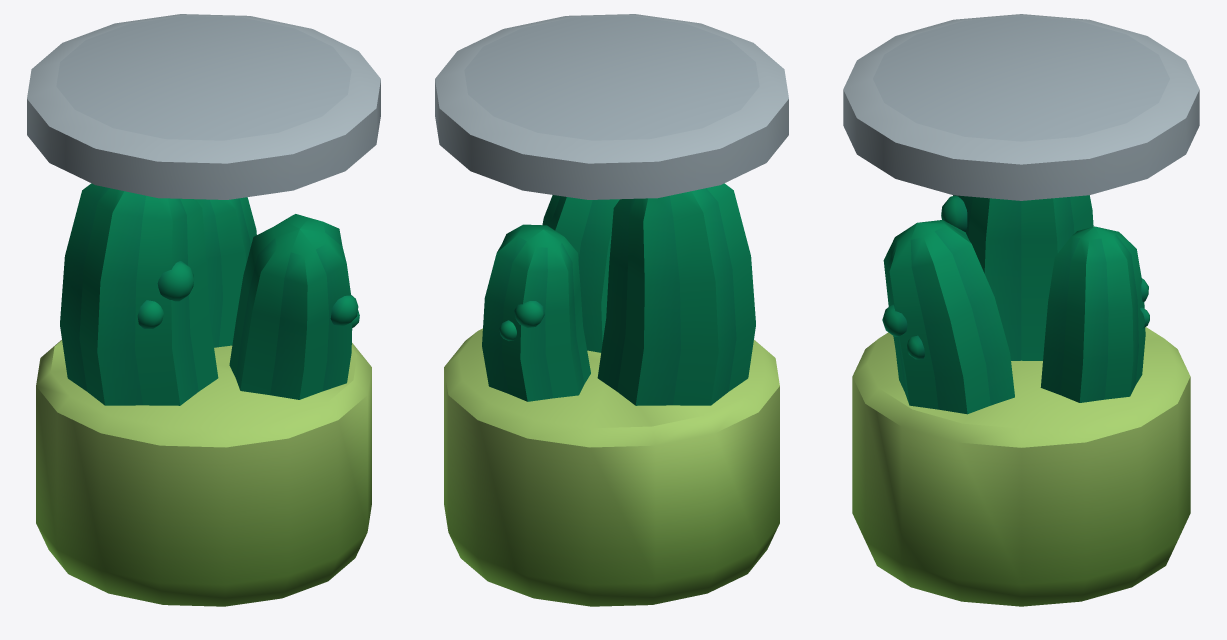
Rendered from pickle_jar.glb.
3 renders of one model, left to right at view 1: azimuth 30°, elevation 25°; view 2: azimuth 150°, elevation 25°; view 3: azimuth 270°, elevation 25°, orthographic.
Visible parts, largest first — view 1: pickle_jar; view 2: pickle_jar; view 3: pickle_jar.
Part boxes in pixels (x1=…): pickle_jar: x1=27, y1=14, x2=380, y2=606; pickle_jar: x1=435, y1=14, x2=788, y2=606; pickle_jar: x1=843, y1=14, x2=1199, y2=606.
Bounding box in the file's own units: 0.4 × 0.56 × 0.4.
2 materials, 1 textured.
